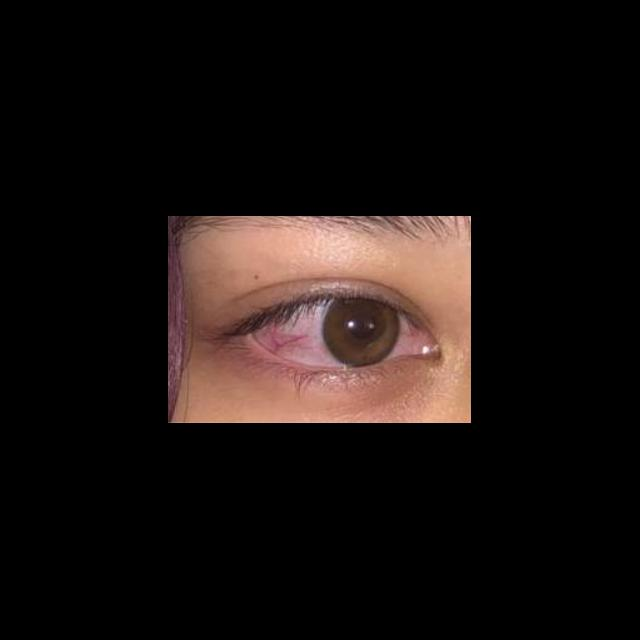eye: (257, 298, 427, 370)
iris: (326, 301, 401, 367)
